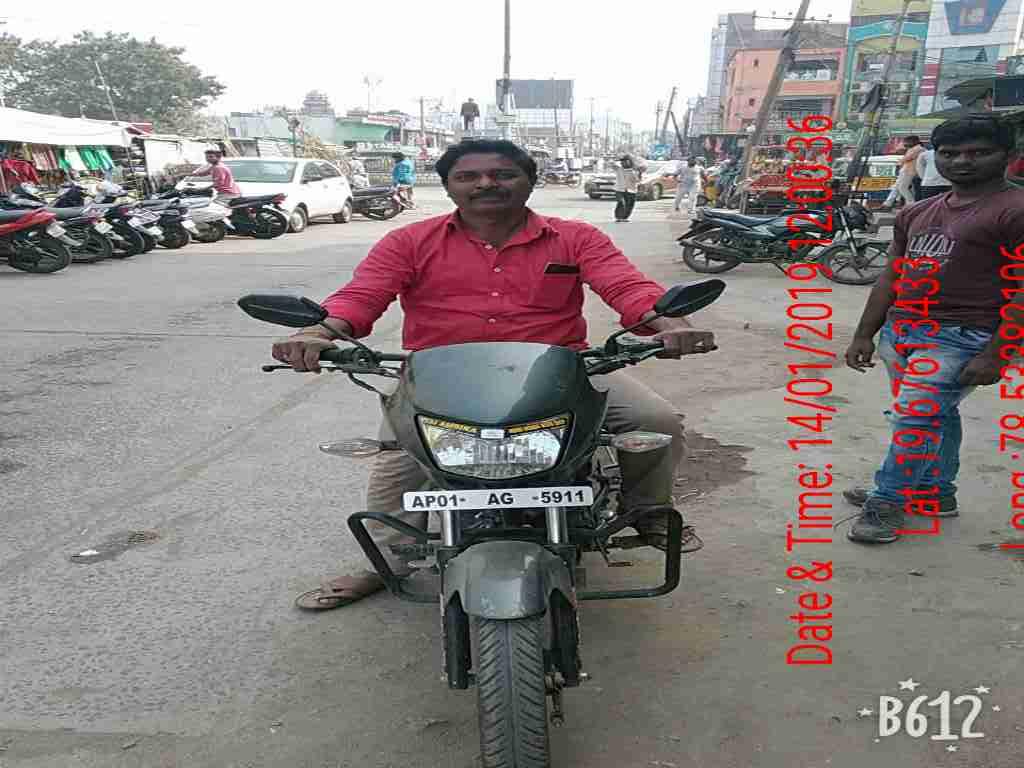plate: (400, 483, 596, 515)
